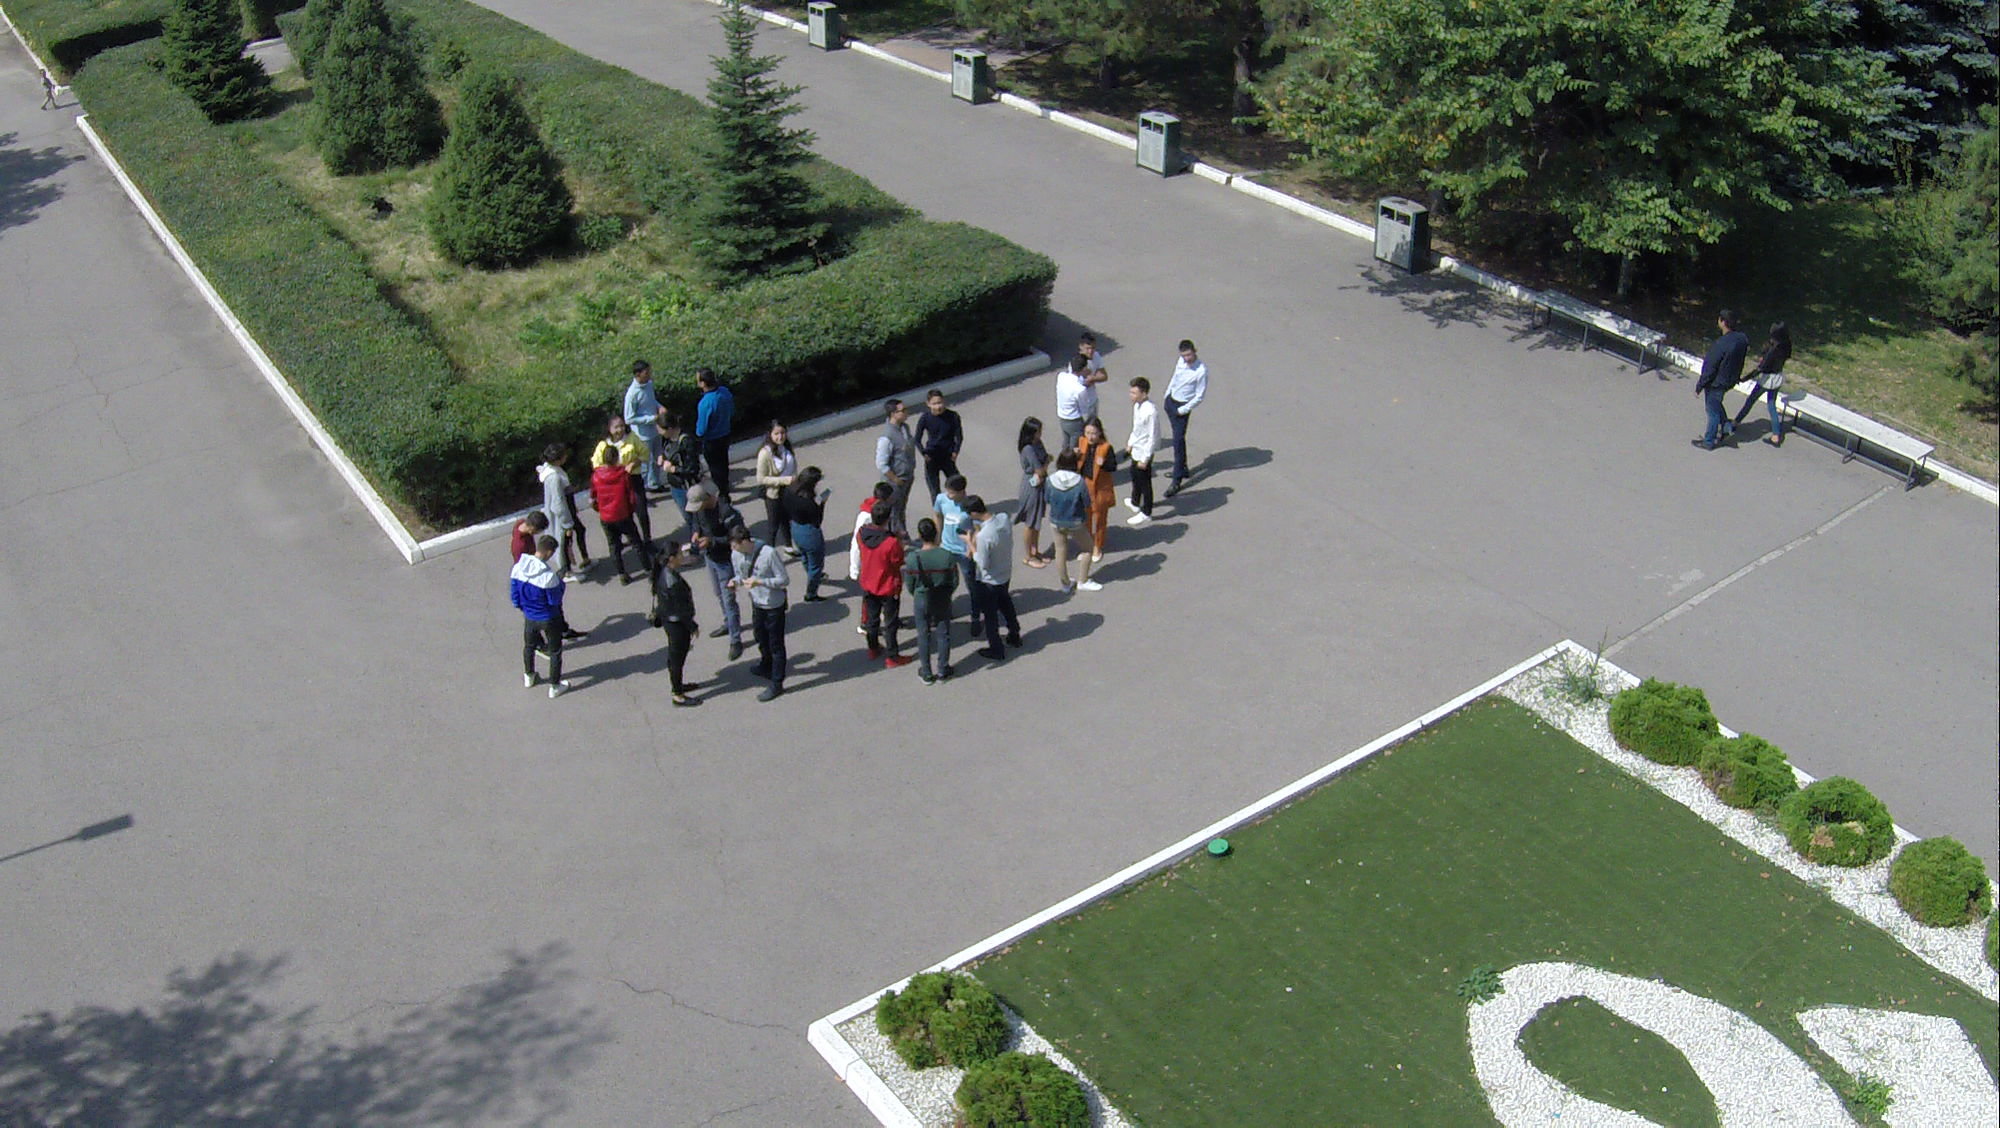person: (730, 533, 793, 703), (1157, 335, 1216, 499), (1010, 416, 1072, 572), (962, 503, 1018, 660), (914, 524, 960, 699), (1049, 453, 1101, 601), (864, 510, 912, 666), (510, 541, 557, 697), (789, 464, 837, 614), (657, 537, 697, 710), (1124, 383, 1168, 535), (1697, 305, 1739, 458), (541, 447, 589, 580), (1080, 418, 1120, 566), (591, 445, 626, 589), (697, 362, 739, 480), (920, 389, 966, 493), (1751, 333, 1793, 447), (870, 403, 912, 508), (618, 360, 664, 453), (764, 426, 789, 518), (516, 510, 545, 545)
